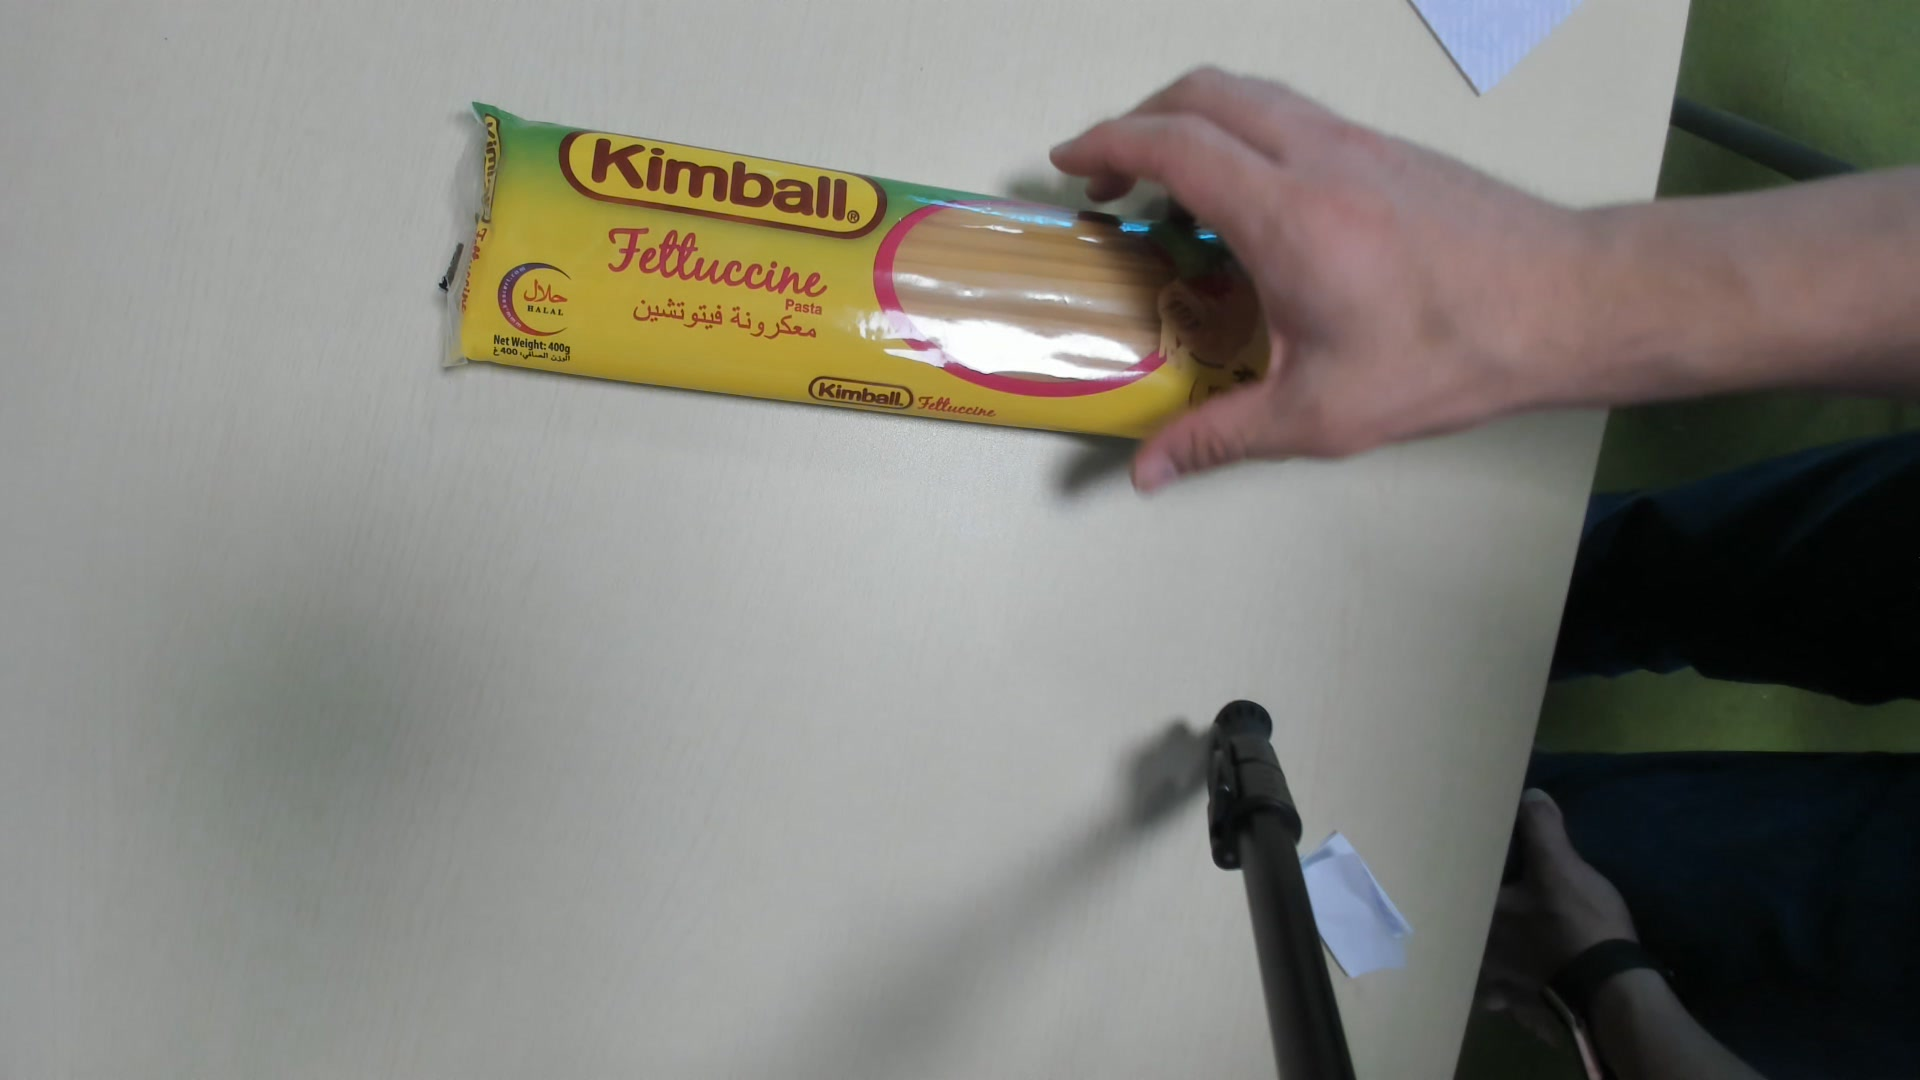Pasta_400-499g_Halal_NonHealthy: (444, 108, 1275, 465)
